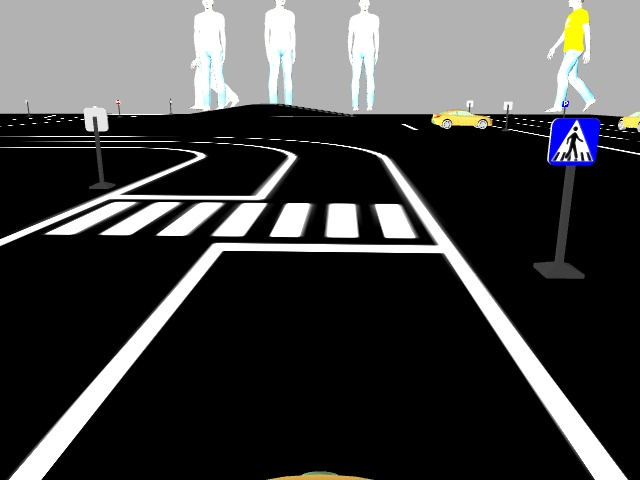Crosswalk: (548, 117, 600, 167)
